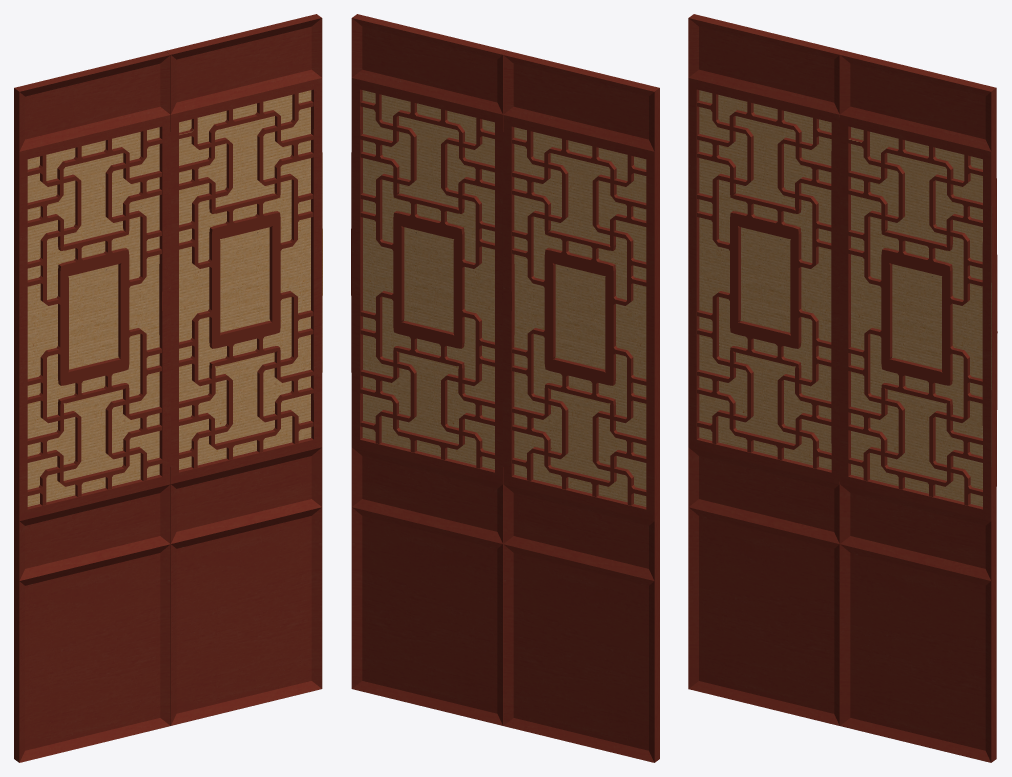
The model's file is Door_TeaRoom.glb.
3 renders of one model, left to right at view 1: azimuth 30°, elevation 25°; view 2: azimuth 150°, elevation 25°; view 3: azimuth 330°, elevation 25°, orthographic.
Parts seen in each view (by area): view 1: Door; view 2: Door; view 3: Door.
Part boxes in pixels (x1,y1,x2,y2): Door: [14, 14, 322, 762]; Door: [351, 14, 659, 762]; Door: [688, 14, 997, 762].
Size of the model in its own units: 1.08 by 2.29 by 0.0336.
1 material, 1 textured.
